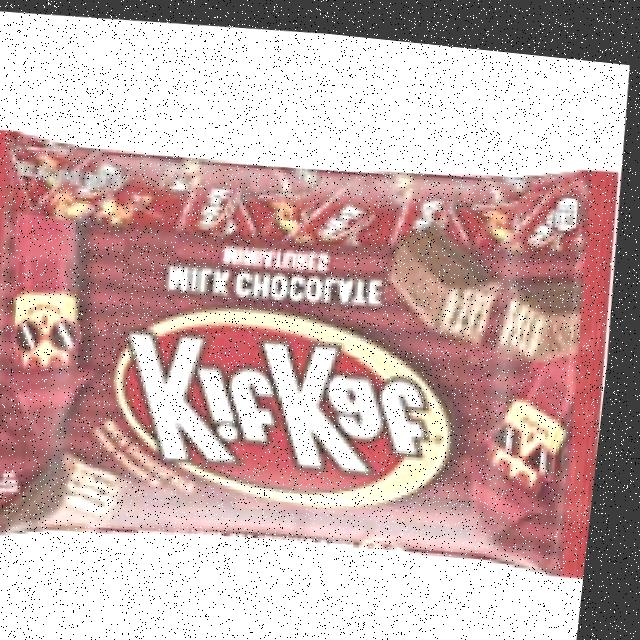kitkat: (0, 107, 628, 585)
